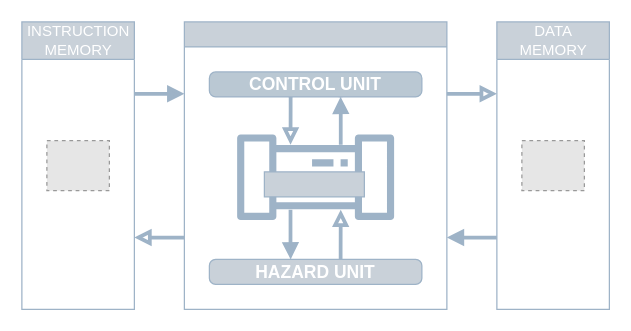
This 631x331 diagram has some shape labels left out. Grey dashed boxes stand in for pictures. The shapes that lost their labels are listed below. From the top down, each one's box as (x1, y1, x2, y2) in pixels, then its label:
(263, 171, 364, 197): DATAPATH
(183, 21, 447, 309): MELA
